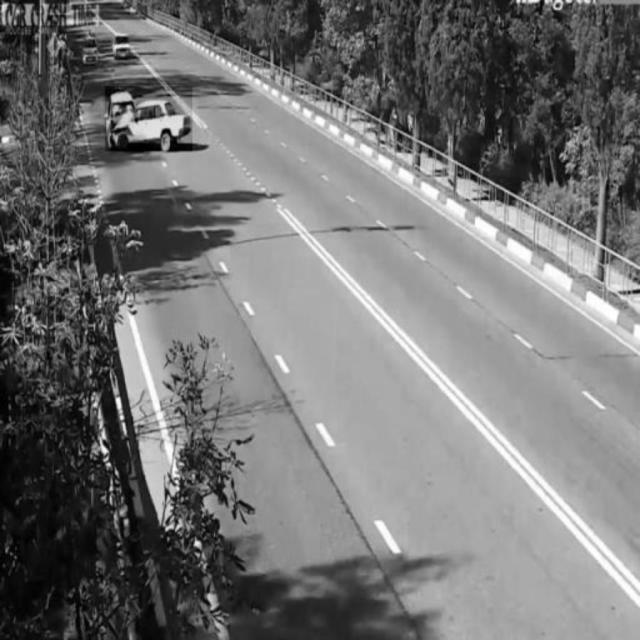accident: (105, 87, 193, 151)
